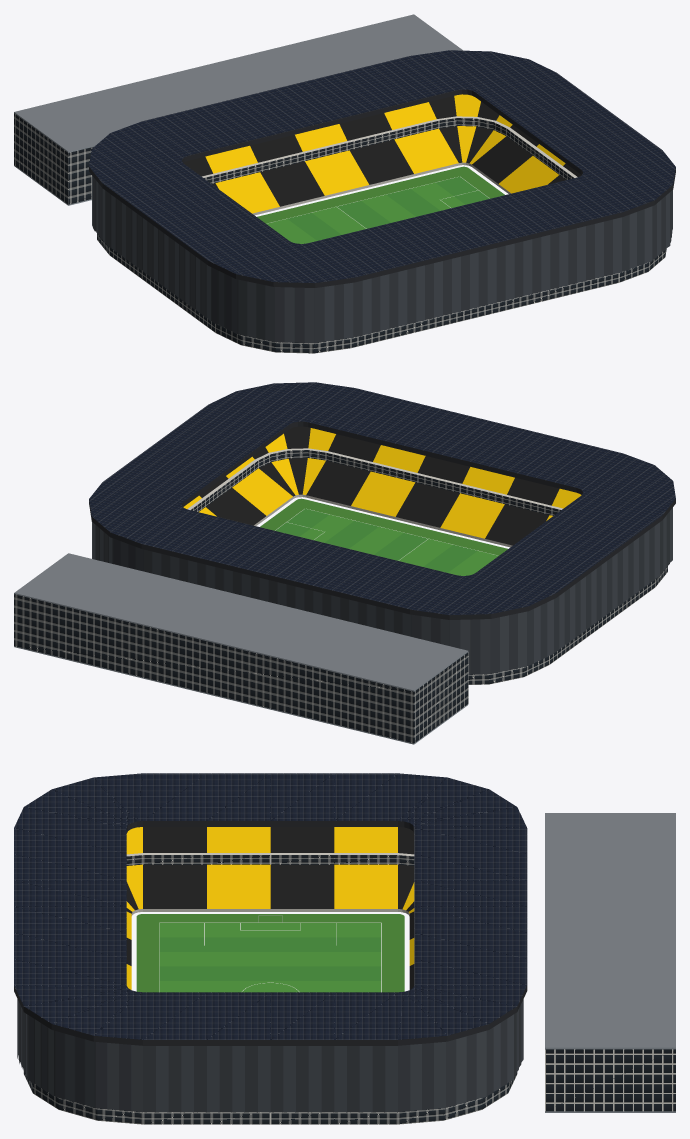
Rendered from stade_berne.glb.
The picture shows the model from 3 angles, top to bottom: view 1: azimuth 30°, elevation 25°; view 2: azimuth 150°, elevation 25°; view 3: azimuth 270°, elevation 25°; orthographic projection. The views are drawn at different scales.
Visible parts, largest first — view 1: stade_berne; view 2: stade_berne; view 3: stade_berne.
Boxes of the visible parts, left/top/right/bottom form: stade_berne: left=14, top=14, right=675, bottom=353; stade_berne: left=14, top=382, right=675, bottom=744; stade_berne: left=14, top=773, right=675, bottom=1124.
Size of the model in its own units: 193 by 30 by 203.
Materials: 3 (3 with a texture image).
